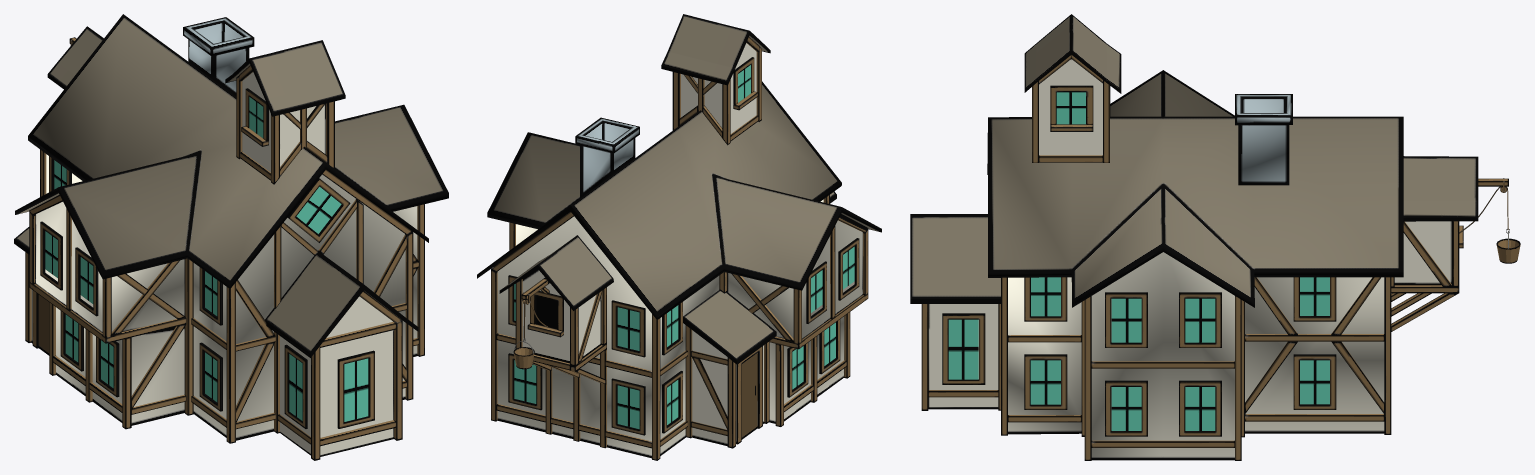
File: SM_LargeHouse_02.fbx
The picture shows the model from 3 angles, left to right: view 1: azimuth 30°, elevation 25°; view 2: azimuth 150°, elevation 25°; view 3: azimuth 270°, elevation 25°; orthographic projection. The views are drawn at different scales.
Visible parts, largest first — view 1: SM_LargeHouse_02; view 2: SM_LargeHouse_02; view 3: SM_LargeHouse_02.
Boxes of the visible parts, x1=… form: SM_LargeHouse_02: x1=14, y1=14, x2=448, y2=460; SM_LargeHouse_02: x1=477, y1=14, x2=881, y2=460; SM_LargeHouse_02: x1=910, y1=14, x2=1520, y2=460.
Size of the model in its own units: 263 by 253 by 392.
Materials: 1 (1 with a texture image).
